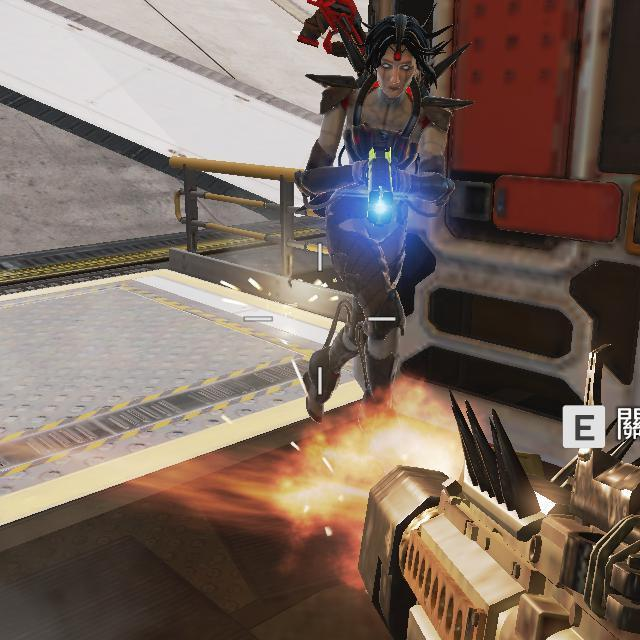avatar: (297, 8, 459, 435)
